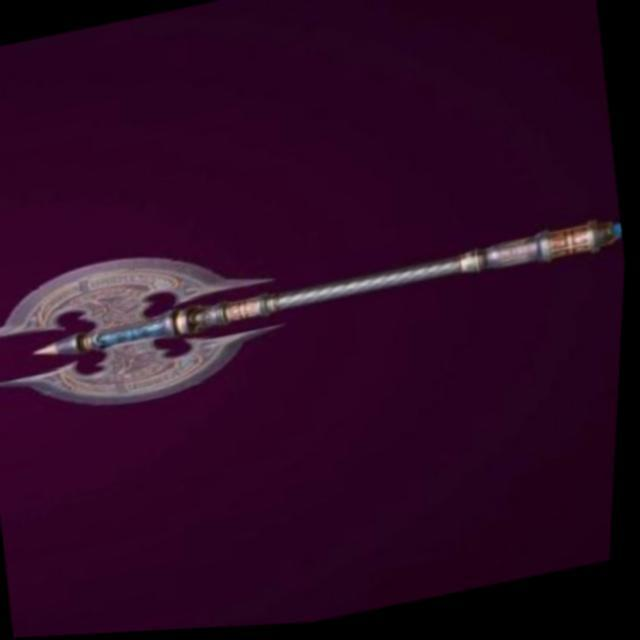weapon: (0, 137, 633, 476)
